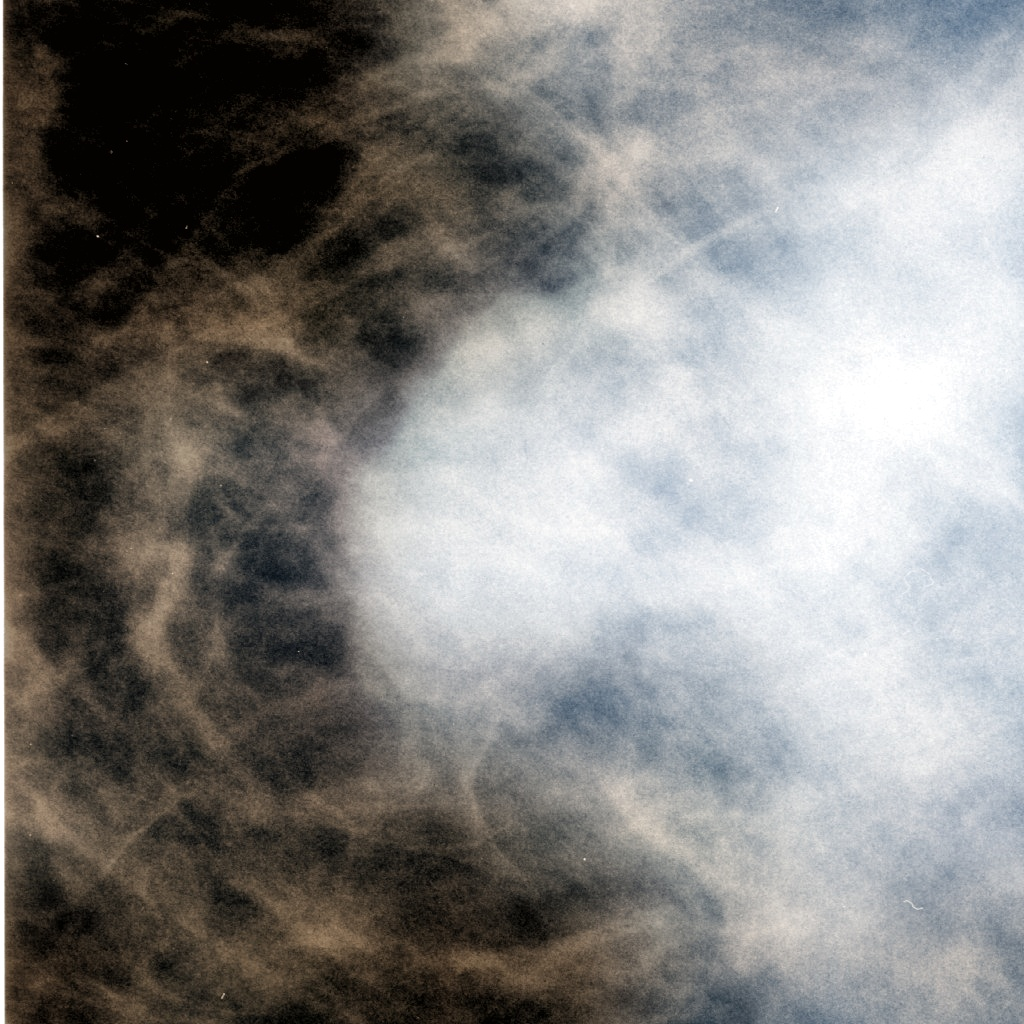tumor: (311, 320, 713, 704)
